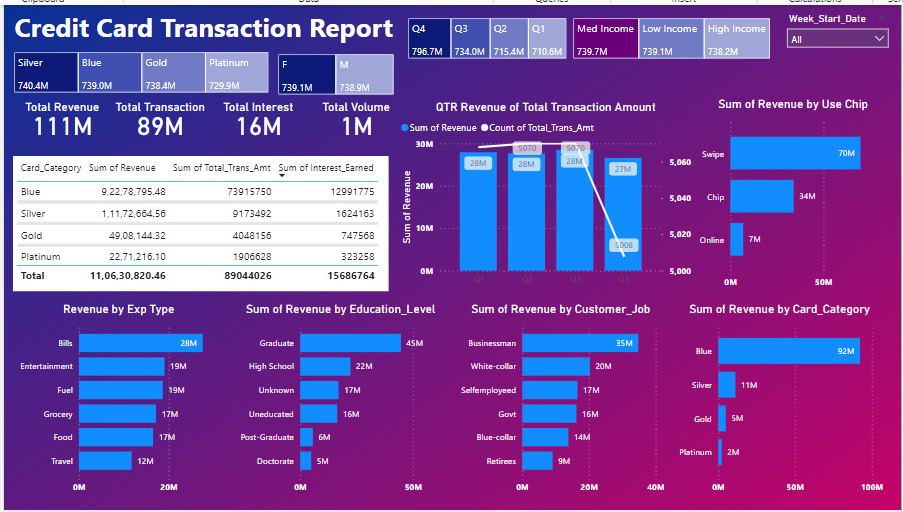

Layout of this report page (visuals, bound fields, positions):
{"tool":"powerbi","page":{"name":"Credit card Transaction","canvas":[1280,720],"ordinal":1},"visuals":[{"type":"textbox","box":[10.5,0,561.9,66.7],"z":0},{"type":"lineStackedColumnComboChart","title":"QTR Revenue of Total Transaction Amount","fields":{"Category":["cc_detail.Qtr"],"Y":["Sum(cc_detail.Revenue)"],"Y2":["CountNonNull(cc_detail.Total_Trans_Amt)"]},"box":[560.1,135.2,424.9,273.9],"z":1},{"type":"barChart","title":"Revenue by Exp Type","fields":{"Category":["cc_detail.Exp Type"],"Y":["Sum(cc_detail.Revenue)"]},"box":[10.5,423.2,307.3,282.7],"z":2},{"type":"barChart","fields":{"Category":["cust_detail.Education_Level"],"Y":["Sum(cc_detail.Revenue)"]},"box":[326.6,423.2,307.3,282.7],"z":3},{"type":"barChart","fields":{"Category":["cust_detail.Customer_Job"],"Y":["Sum(cc_detail.Revenue)"]},"box":[640.9,423.2,307.3,282.7],"z":4},{"type":"barChart","fields":{"Category":["cc_detail.Card_Category"],"Y":["Sum(cc_detail.Revenue)"]},"box":[953.4,423.2,307.3,282.7],"z":5},{"type":"barChart","fields":{"Y":["Sum(cc_detail.Revenue)"],"Category":["cc_detail.Use Chip"]},"box":[985,131.7,282.7,282.7],"z":6},{"type":"tableEx","fields":{"Values":["cc_detail.Card_Category","Sum(cc_detail.Revenue)","Sum(cc_detail.Total_Trans_Amt)","cc_detail.Interest_Earned"]},"box":[12.3,216,535.5,193.1],"z":7},{"type":"card","title":"Total Revenue","fields":{"Values":["Sum(cc_detail.Revenue)"]},"box":[12.3,135.2,140.5,70.2],"z":8},{"type":"card","title":"Total Transaction","fields":{"Values":["Sum(cc_detail.Total_Trans_Amt)"]},"box":[152.8,135.2,140.5,70.2],"z":9},{"type":"card","title":"Total Interest","fields":{"Values":["Sum(cc_detail.Interest_Earned)"]},"box":[293.2,135.2,140.5,70.2],"z":10},{"type":"card","title":"Total Volume","fields":{"Values":["Sum(cc_detail.Total_Trans_Vol)"]},"box":[431.9,135.2,140.5,70.2],"z":11},{"type":"slicer","fields":{"Values":["cc_detail.Week_Start_Date"]},"box":[1107.9,5.3,165,75.5],"z":12},{"type":"treemap","fields":{"Group":["cc_detail.Qtr"],"Values":["Avg(cc_detail.Client_Num)"]},"box":[572.4,14,235.3,66.7],"z":13},{"type":"treemap","fields":{"Group":["cust_detail.Gender"],"Values":["Avg(cc_detail.Client_Num)"]},"box":[386.3,65,173.8,66.7],"z":14},{"type":"treemap","fields":{"Group":["cc_detail.Card_Category"],"Values":["Avg(cc_detail.Client_Num)"]},"box":[10.5,63.2,372.2,66.7],"z":16},{"type":"treemap","fields":{"Group":["cust_detail.IncomeGroup"],"Values":["Avg(cc_detail.Client_Num)"]},"box":[807.7,14,289.7,66.7],"z":17}]}

Visuals, with their boxes on the page's 1280x720 design canvas (x1, y1, x2, y2). These are canvas units, not pixel positions in the 903x512 screenshot, which may show the page scaled, cropped or inside an application window:
textbox: (x1=10, y1=0, x2=572, y2=67)
"QTR Revenue of Total Transaction Amount" lineStackedColumnComboChart: (x1=560, y1=135, x2=985, y2=409)
"Revenue by Exp Type" barChart: (x1=10, y1=423, x2=318, y2=706)
barChart - cust_detail.Education_Level x Sum(cc_detail.Revenue): (x1=327, y1=423, x2=634, y2=706)
barChart - cust_detail.Customer_Job x Sum(cc_detail.Revenue): (x1=641, y1=423, x2=948, y2=706)
barChart - cc_detail.Card_Category x Sum(cc_detail.Revenue): (x1=953, y1=423, x2=1261, y2=706)
barChart - Sum(cc_detail.Revenue) x cc_detail.Use Chip: (x1=985, y1=132, x2=1268, y2=414)
tableEx - cc_detail.Card_Category x Sum(cc_detail.Revenue): (x1=12, y1=216, x2=548, y2=409)
"Total Revenue" card: (x1=12, y1=135, x2=153, y2=205)
"Total Transaction" card: (x1=153, y1=135, x2=293, y2=205)
"Total Interest" card: (x1=293, y1=135, x2=434, y2=205)
"Total Volume" card: (x1=432, y1=135, x2=572, y2=205)
slicer - cc_detail.Week_Start_Date: (x1=1108, y1=5, x2=1273, y2=81)
treemap - cc_detail.Qtr x Avg(cc_detail.Client_Num): (x1=572, y1=14, x2=808, y2=81)
treemap - cust_detail.Gender x Avg(cc_detail.Client_Num): (x1=386, y1=65, x2=560, y2=132)
treemap - cc_detail.Card_Category x Avg(cc_detail.Client_Num): (x1=10, y1=63, x2=383, y2=130)
treemap - cust_detail.IncomeGroup x Avg(cc_detail.Client_Num): (x1=808, y1=14, x2=1097, y2=81)
